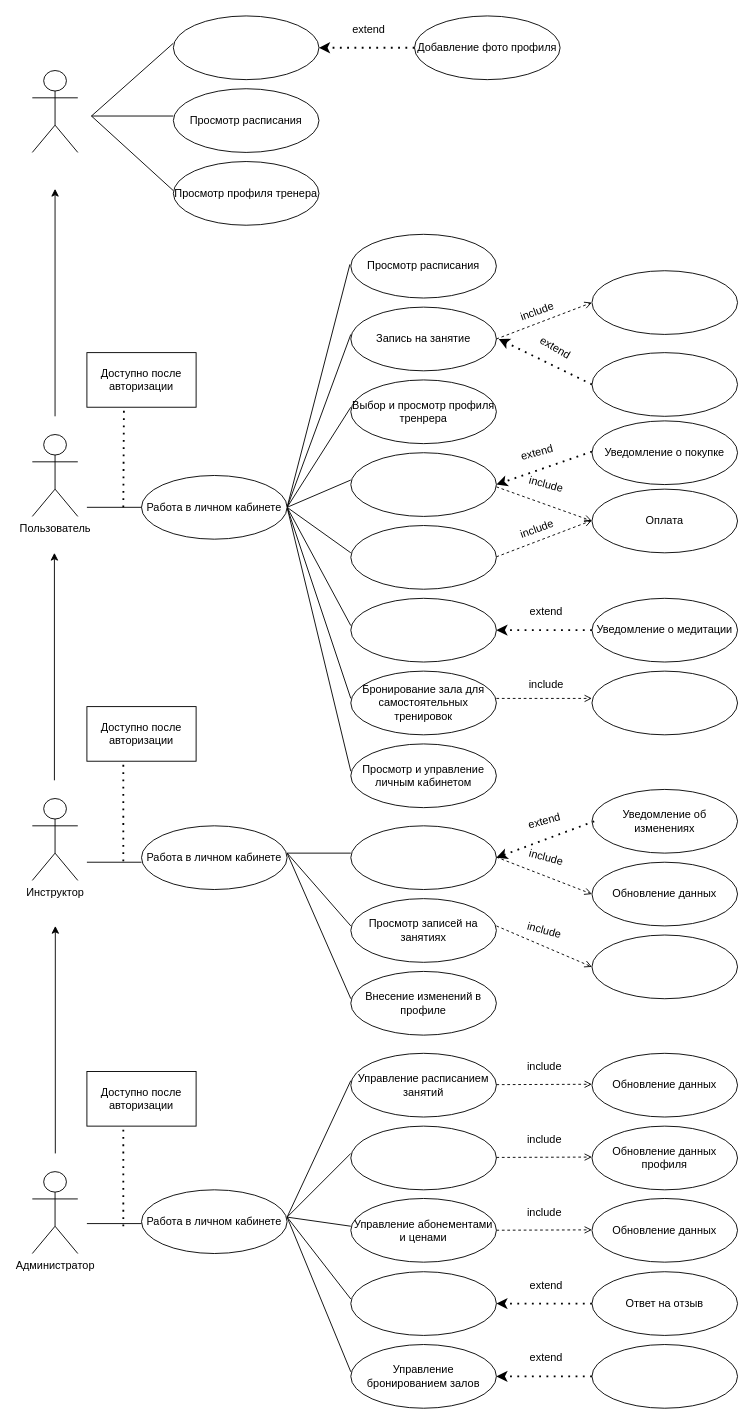
Image size: 753x1424. Some labels were removed from this diagram. The centre of each missing label's shape, as x and y in pixels:
"Гость" goes at pixel 54 111.
"Запись на медитацию" goes at pixel 423 629.
"Обработка обратной связи и отзывов" goes at pixel 423 1303.
"Покупка абонемента" goes at pixel 423 484.
"Покупка отдельного занятия" goes at pixel 423 557.
"Проверка доступности зала" goes at pixel 664 702.
"Проверка доступности занятия" goes at pixel 664 302.
"Проверка списка участников" goes at pixel 664 966.
"Регистрация/Авторизация" goes at pixel 245 47.
"Уведомление о бронировании" goes at pixel 664 1376.
"Уведомление о занятии" goes at pixel 664 384.
"Управление профилями инструкторов" goes at pixel 423 1157.
"Управление расписанием" goes at pixel 423 857.
